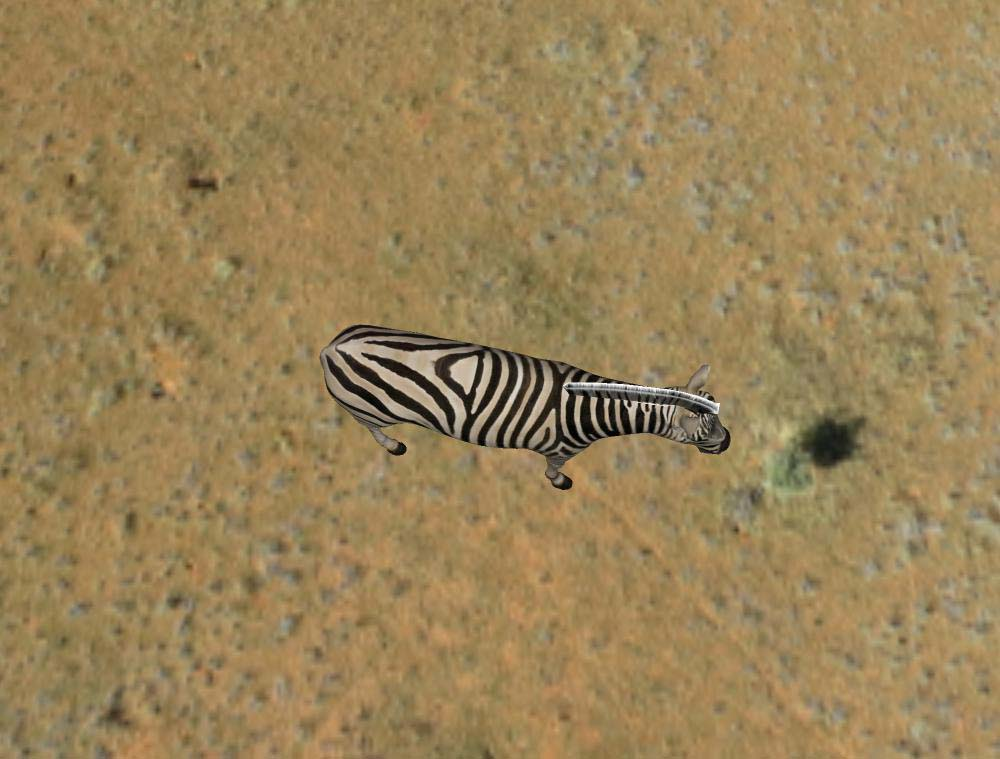zebra: (320, 312, 734, 504)
